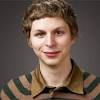no_mask: (24, 2, 78, 71)
